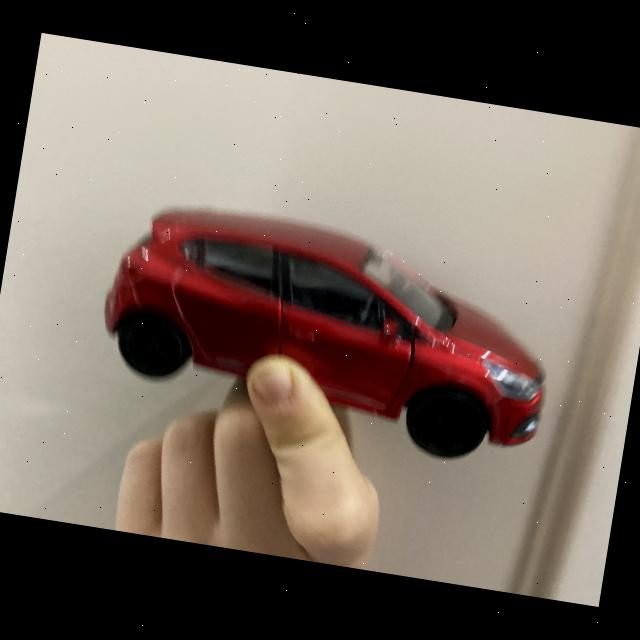Dogru_Jant: (411, 394, 479, 456), (120, 318, 178, 372)
